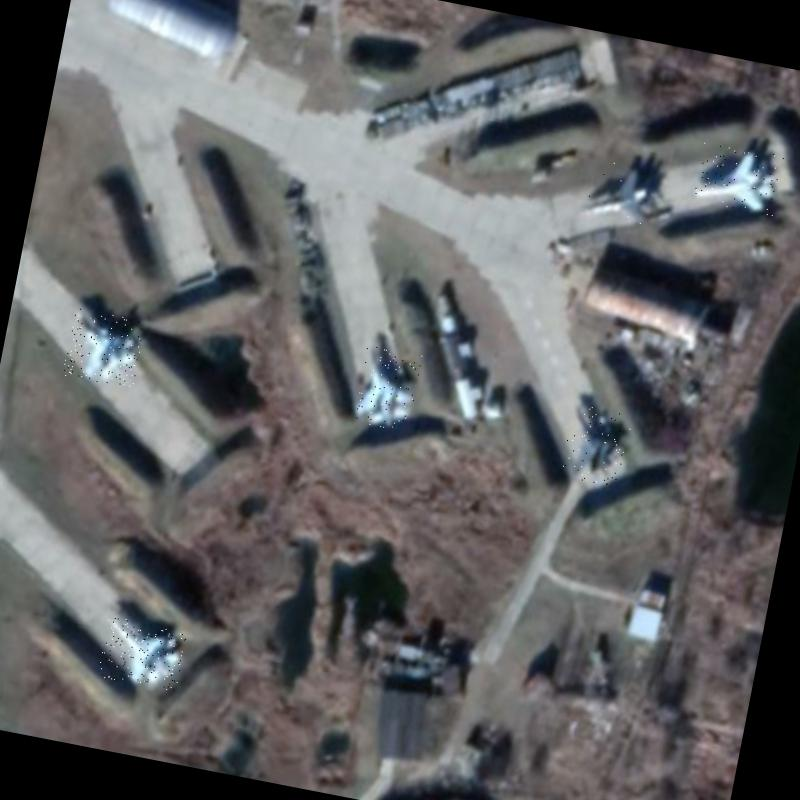A1: (690, 138, 784, 216), (97, 616, 187, 692), (558, 401, 632, 487), (352, 345, 423, 432), (576, 158, 660, 228)
A19: (62, 307, 146, 389)
